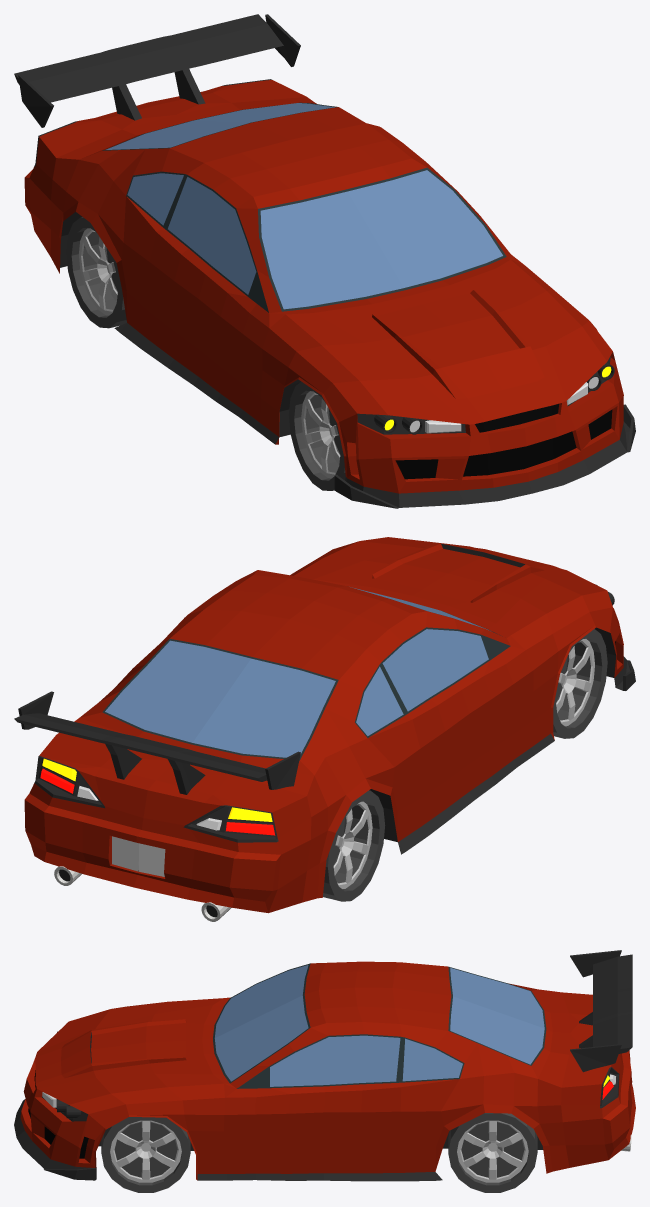
The model's file is nissan.fbx.
The picture shows the model from 3 angles, top to bottom: view 1: azimuth 30°, elevation 25°; view 2: azimuth 150°, elevation 25°; view 3: azimuth 270°, elevation 25°; orthographic projection. The views are drawn at different scales.
Parts seen in each view (by area): view 1: car_nissan, wheel_br_nissan, wheel_fr_nissan; view 2: car_nissan, wheel_br_nissan, wheel_fr_nissan; view 3: car_nissan, wheel_bl_nissan, wheel_fl_nissan.
Part boxes in pixels (bbox=[...]): car_nissan: bbox=[14, 14, 635, 508]; wheel_br_nissan: bbox=[66, 217, 126, 328]; wheel_fr_nissan: bbox=[288, 381, 345, 490]; car_nissan: bbox=[14, 537, 635, 921]; wheel_br_nissan: bbox=[323, 790, 385, 901]; wheel_fr_nissan: bbox=[553, 629, 607, 738]; car_nissan: bbox=[14, 950, 635, 1181]; wheel_bl_nissan: bbox=[448, 1113, 537, 1192]; wheel_fl_nissan: bbox=[101, 1117, 190, 1192].
Size of the model in its own units: 208 by 136 by 493.
